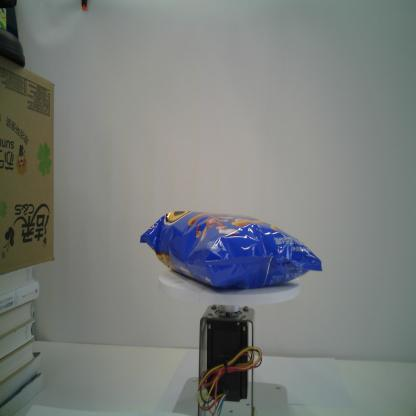Puffed Food: (139, 208, 324, 290)
